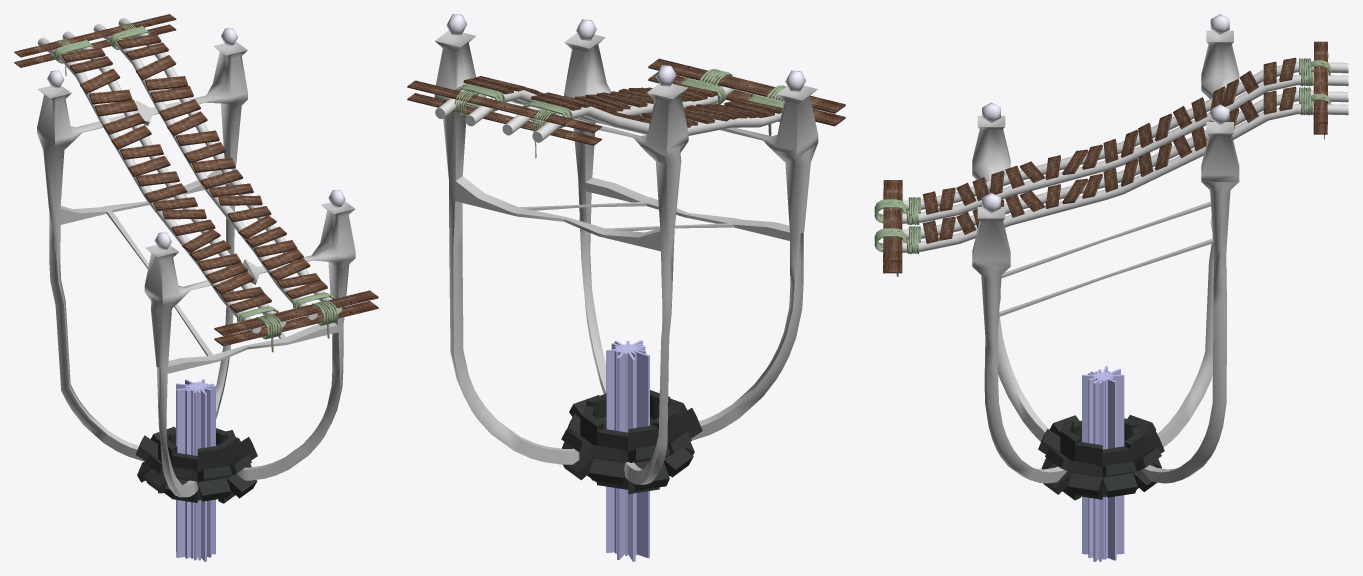
The model's file is 2_bridge_up.fbx.
3 views of the same model, side by side, from view 1: azimuth 30°, elevation 25°; view 2: azimuth 150°, elevation 25°; view 3: azimuth 270°, elevation 25° (orthographic). The views are drawn at different scales.
Visible parts, largest first — view 1: 2_straightup_base, 2_straightup_LaR, 2_straightup_LaL, gravityring, 2_straightup_verschlag, 2_straightup_verschlag02, 2_straightup_verschlag_ropes, 2_straightup_LaL_ropes, 2_straightup_LaR_ropes; view 2: 2_straightup_base, gravityring, 2_straightup_LaL, 2_straightup_LaR, 2_straightup_verschlag02, 2_straightup_verschlag, 2_straightup_LaR_ropes, 2_straightup_LaL_ropes, 2_straightup_verschlag02_ropes; view 3: 2_straightup_base, gravityring, 2_straightup_LaL, 2_straightup_LaR, 2_straightup_verschlag, 2_straightup_verschlag02, 2_straightup_verschlag_ropes, 2_straightup_LaL_ropes, 2_straightup_LaR_ropes.
Boxes of the visible parts, box(x1,y1,x2,y2) form: 2_straightup_base: box(37, 28, 355, 497); 2_straightup_LaR: box(93, 18, 341, 319); 2_straightup_LaL: box(38, 31, 286, 333); gravityring: box(135, 379, 257, 561); 2_straightup_verschlag: box(214, 290, 378, 346); 2_straightup_verschlag02: box(14, 14, 176, 67); 2_straightup_verschlag_ropes: box(256, 300, 338, 352); 2_straightup_LaL_ropes: box(53, 39, 278, 322); 2_straightup_LaR_ropes: box(109, 26, 334, 308); 2_straightup_base: box(434, 14, 818, 484); gravityring: box(561, 340, 702, 561); 2_straightup_LaL: box(502, 92, 782, 142); 2_straightup_LaR: box(435, 76, 734, 126); 2_straightup_verschlag02: box(407, 80, 601, 145); 2_straightup_verschlag: box(648, 58, 845, 126); 2_straightup_LaR_ropes: box(455, 77, 726, 111); 2_straightup_LaL_ropes: box(523, 94, 783, 128); 2_straightup_verschlag02_ropes: box(454, 90, 556, 158); 2_straightup_base: box(972, 14, 1239, 483); gravityring: box(1038, 366, 1164, 561); 2_straightup_LaL: box(902, 57, 1348, 223); 2_straightup_LaR: box(902, 86, 1348, 252); 2_straightup_verschlag: box(883, 180, 902, 273); 2_straightup_verschlag02: box(1313, 41, 1328, 134); 2_straightup_verschlag_ropes: box(874, 199, 906, 276); 2_straightup_LaL_ropes: box(906, 58, 1313, 225); 2_straightup_LaR_ropes: box(906, 87, 1313, 254).
Size of what is drawn, in the model's own units: 63.72 by 143 by 124.
Materials: 7 (1 with a texture image).
